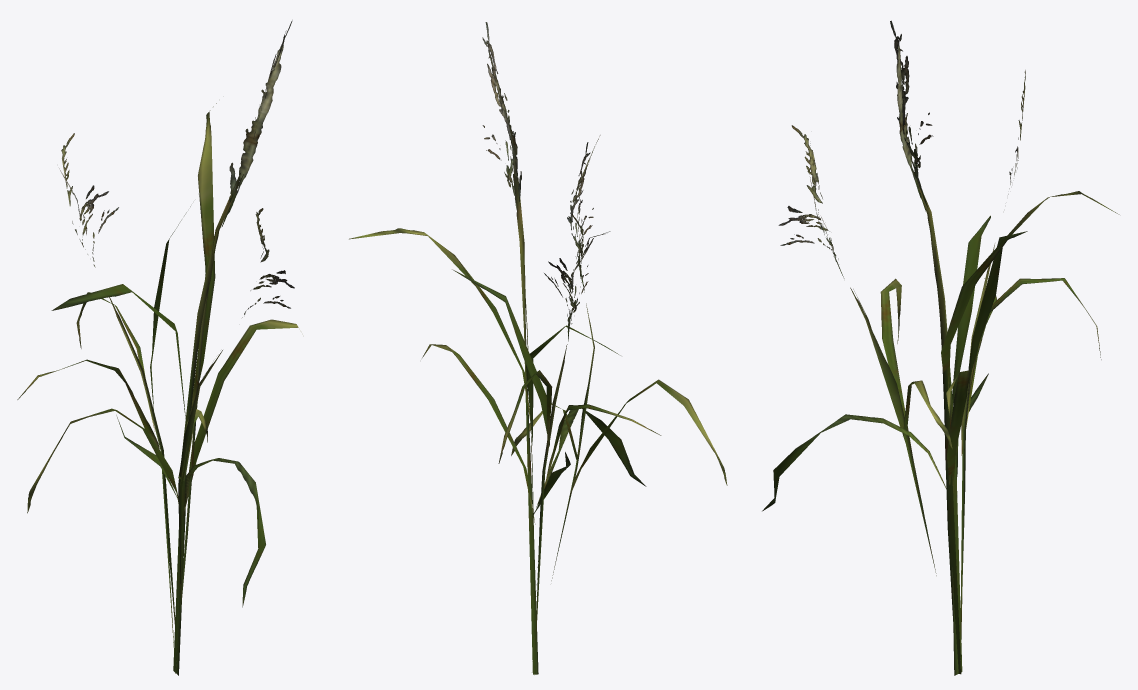
The model's file is ph-grass-tall-b-low.glb.
3 views of the same model, side by side, from view 1: azimuth 30°, elevation 25°; view 2: azimuth 150°, elevation 25°; view 3: azimuth 270°, elevation 25° (orthographic). The views are drawn at different scales.
Visible parts, largest first — view 1: ph-grass-tall-b-low; view 2: ph-grass-tall-b-low; view 3: ph-grass-tall-b-low.
Boxes of the visible parts, x1,y1,x2,y2 form: ph-grass-tall-b-low: (17, 20, 298, 675); ph-grass-tall-b-low: (349, 22, 727, 674); ph-grass-tall-b-low: (762, 20, 1119, 675).
Size of the model in its own units: 0.1416 by 0.2855 by 0.1348.
Materials: 1 (1 with a texture image).
